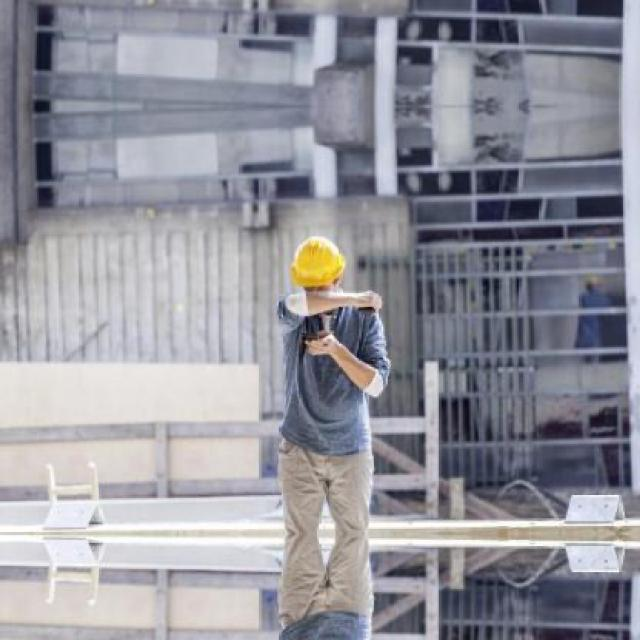con casco: (303, 234, 370, 302)
